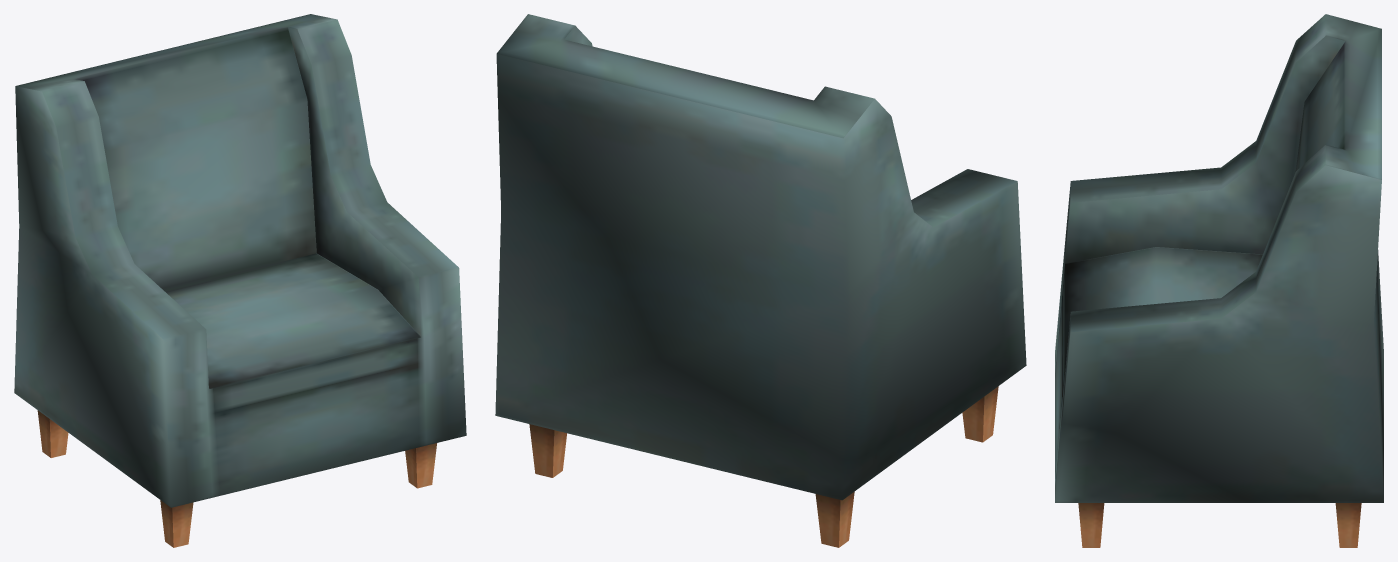
File: chr_lrg_reg_blugrn.fbx
3 renders of one model, left to right at view 1: azimuth 30°, elevation 25°; view 2: azimuth 150°, elevation 25°; view 3: azimuth 270°, elevation 25°, orthographic. The views are drawn at different scales.
Visible parts, largest first — view 1: mesh_0; view 2: mesh_0; view 3: mesh_0.
Boxes of the visible parts, x1,y1,x2,y2 form: mesh_0: (14, 14, 466, 547); mesh_0: (495, 14, 1026, 547); mesh_0: (1055, 14, 1383, 547).
Size of the model in its own units: 90.34 by 110 by 83.04.
1 material, 1 textured.
